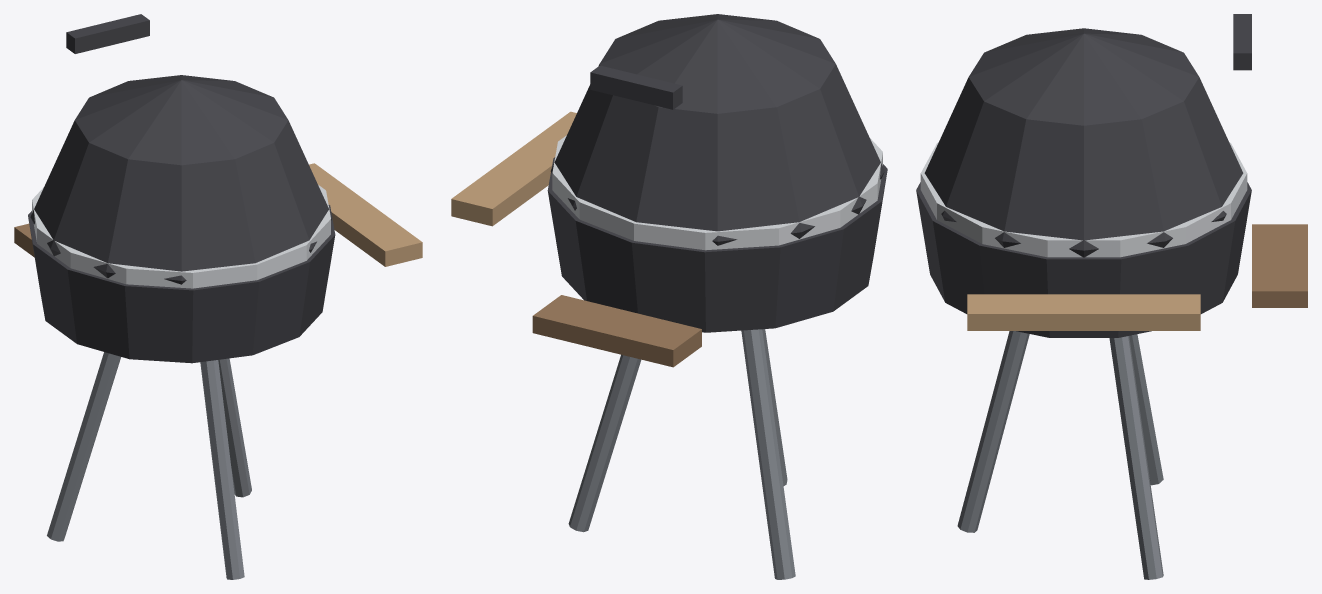
File: grill.glb
The picture shows the model from 3 angles, left to right: view 1: azimuth 30°, elevation 25°; view 2: azimuth 150°, elevation 25°; view 3: azimuth 270°, elevation 25°; orthographic projection. The views are drawn at different scales.
Visible parts, largest first — view 1: grill; view 2: grill; view 3: grill.
Part boxes in pixels (<box>): grill: <box>14,14,422,579</box>; grill: <box>451,14,887,579</box>; grill: <box>916,14,1307,579</box>.
Size of the model in its own units: 0.851 by 1.18 by 0.84.
